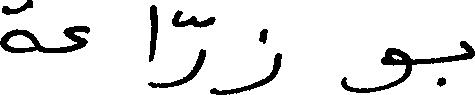X: (344, 43, 411, 94), (231, 24, 279, 94), (174, 5, 204, 90), (0, 0, 36, 57), (66, 21, 87, 57), (149, 0, 156, 92), (461, 36, 474, 64)
